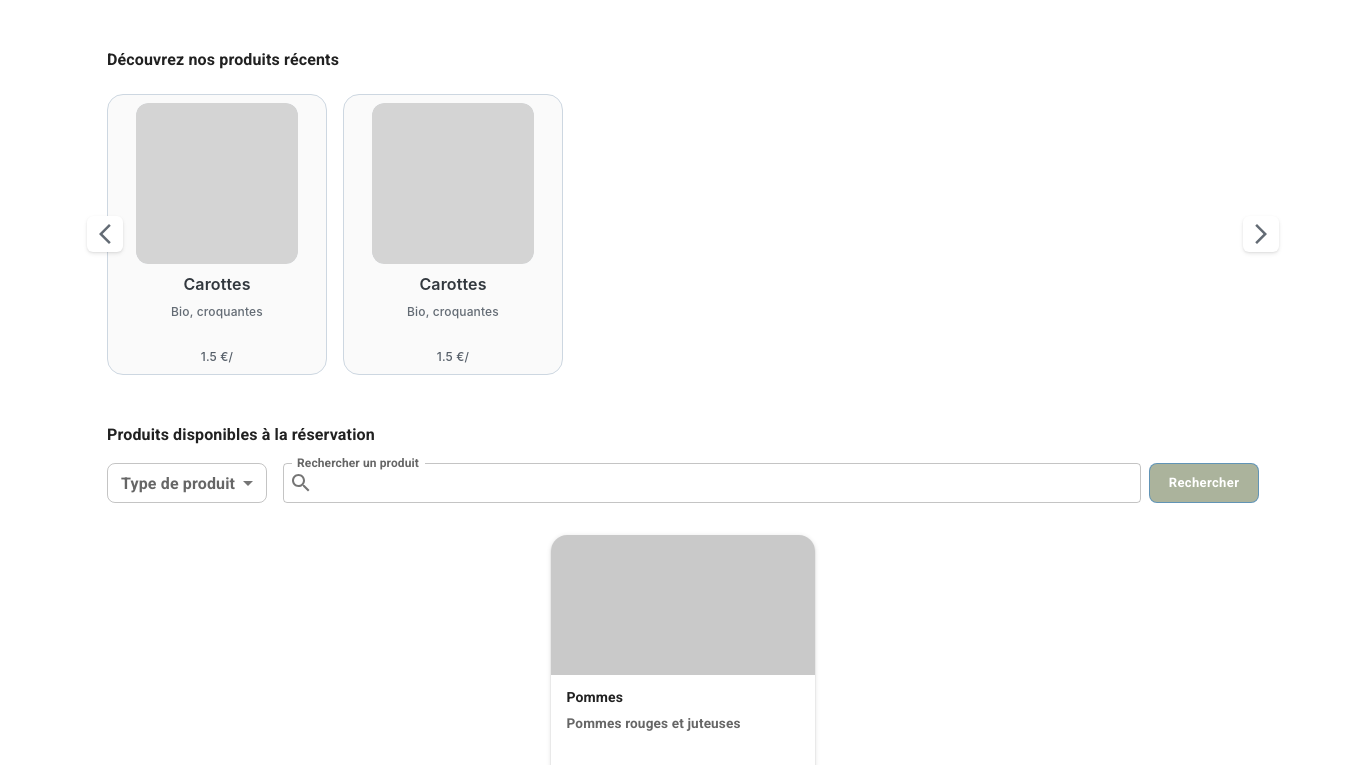
it: HomePage › shows no product message when search does not match
In the dropdown labelled "Rechercher un produit": (712, 483) 321,469 -> 1102,497, type "XYZ"
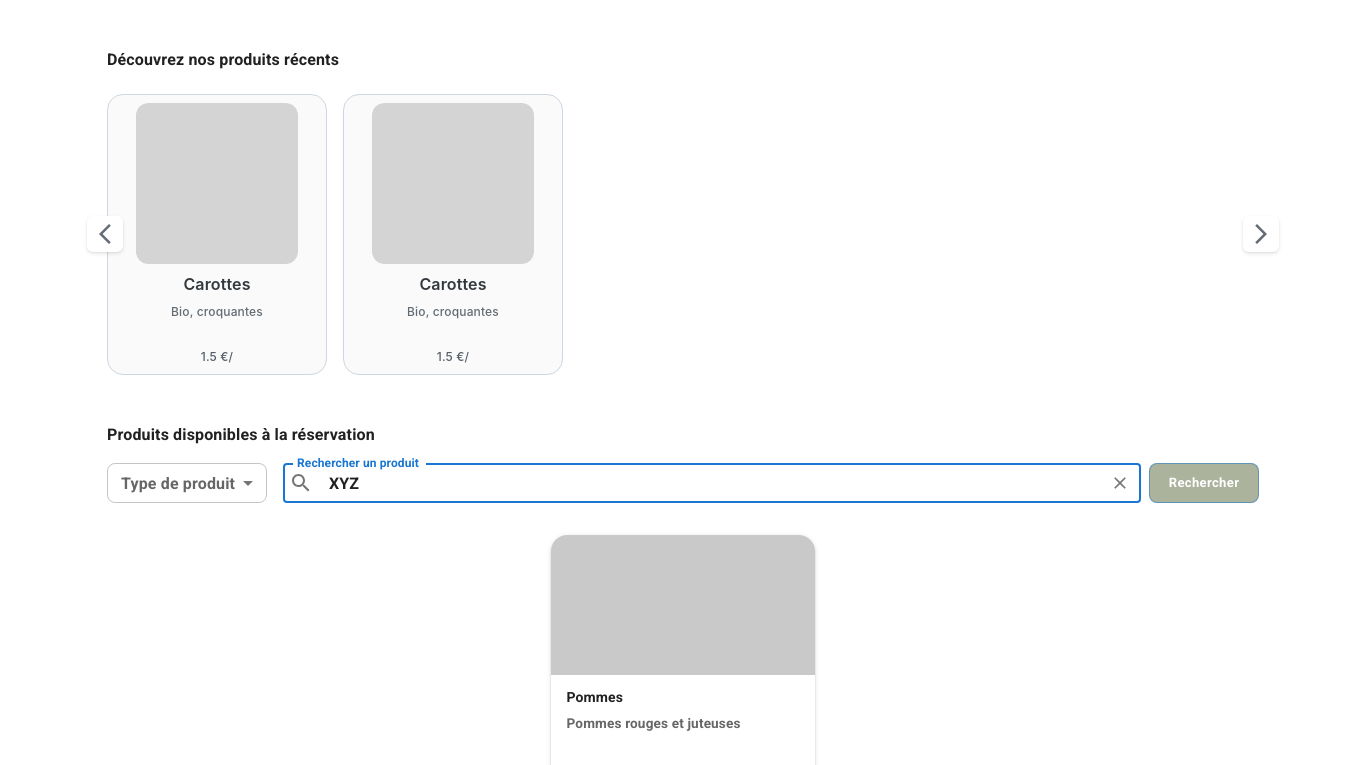
Click the button "Rechercher": (1204, 483) 1149,463 -> 1259,503
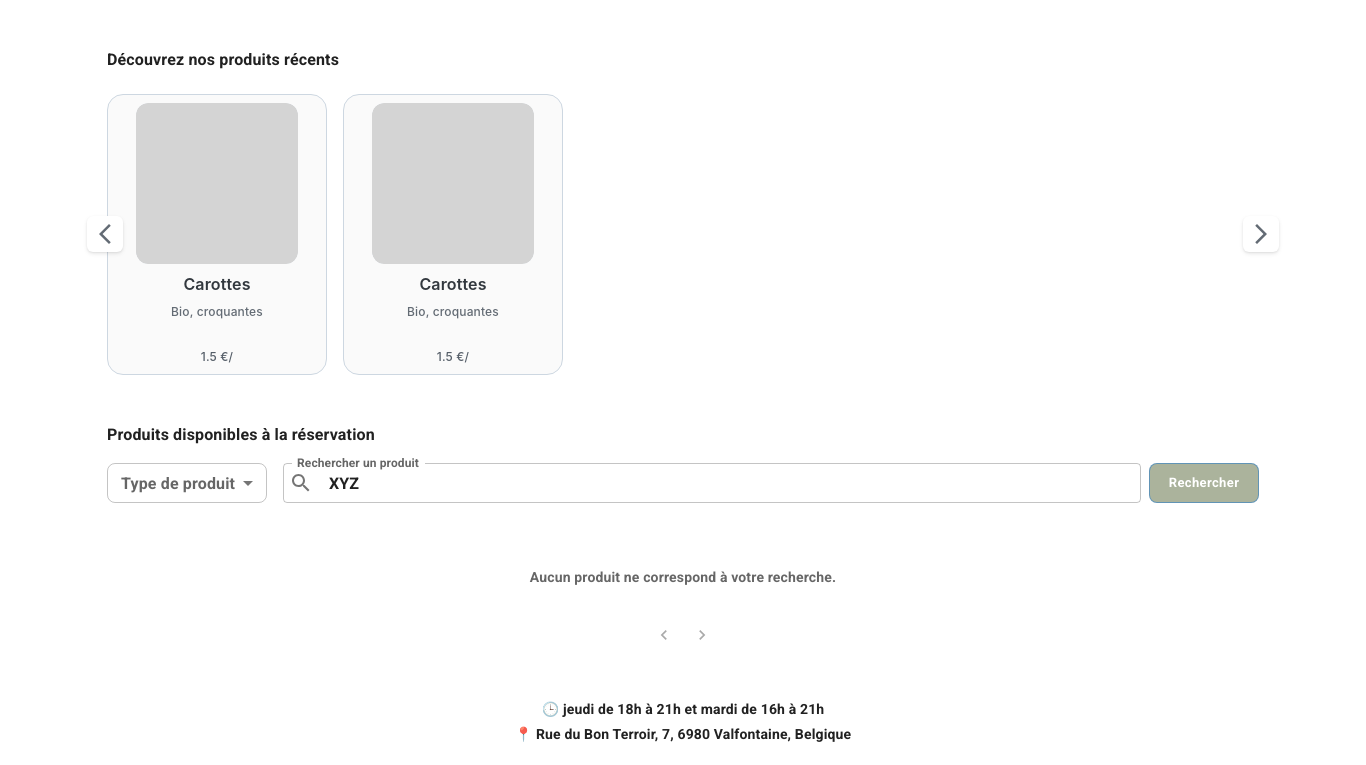
Check: the text "Aucun produit ne correspond à votre recherche." is shown, box 530,569 -> 836,585
